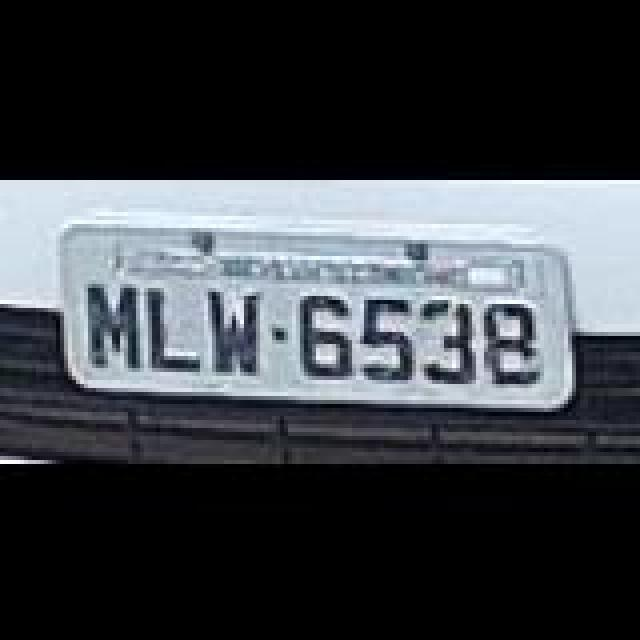3: (418, 298, 478, 382)
5: (358, 294, 418, 378)
6: (298, 290, 358, 374)
8: (486, 302, 546, 386)
L: (146, 280, 206, 368)
M: (88, 280, 144, 368)
W: (210, 286, 262, 370)
